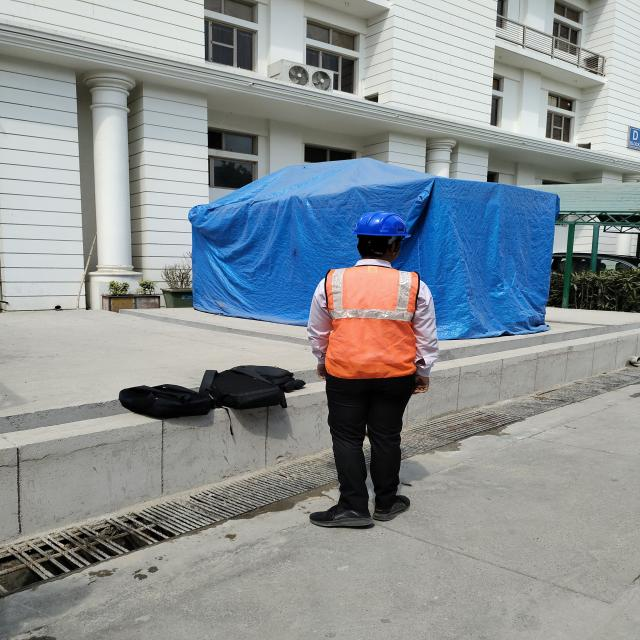safe: (311, 211, 433, 526)
